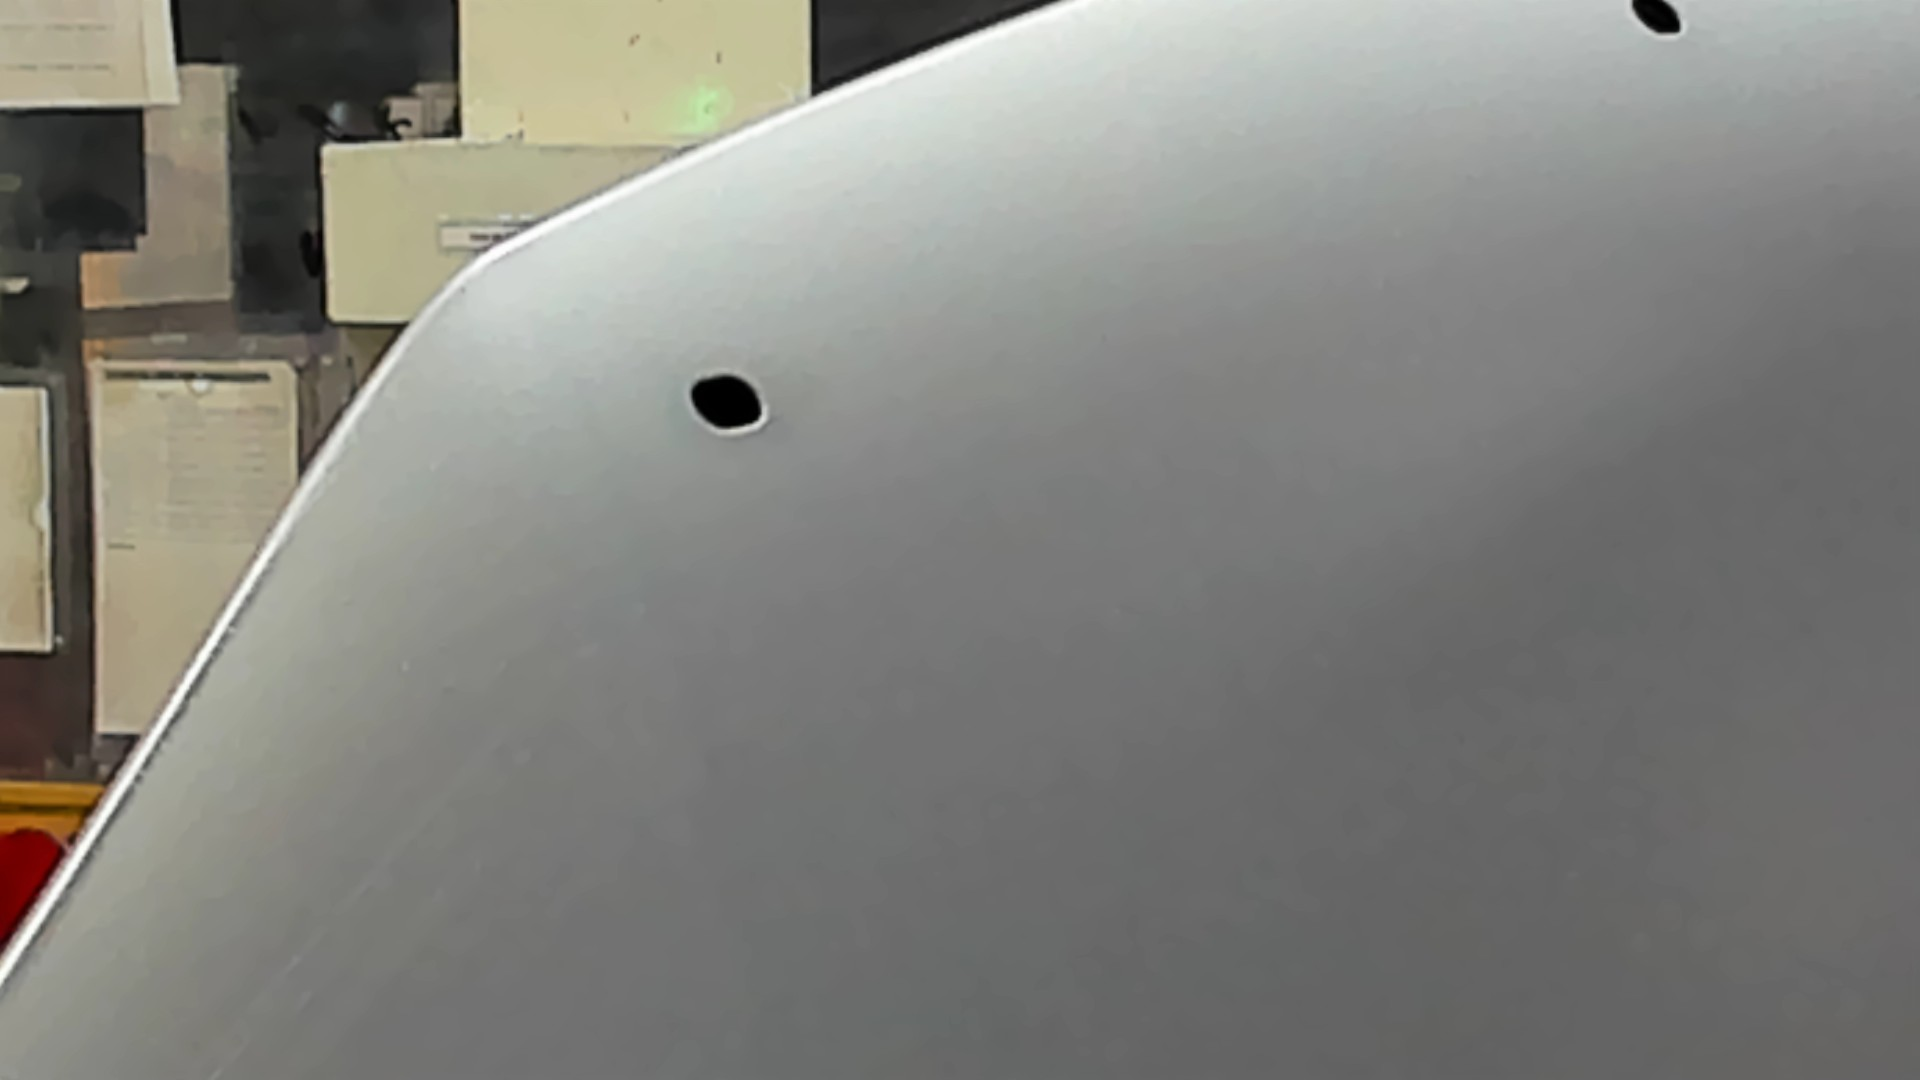chico: (676, 359, 785, 440), (1619, 1, 1692, 49)
